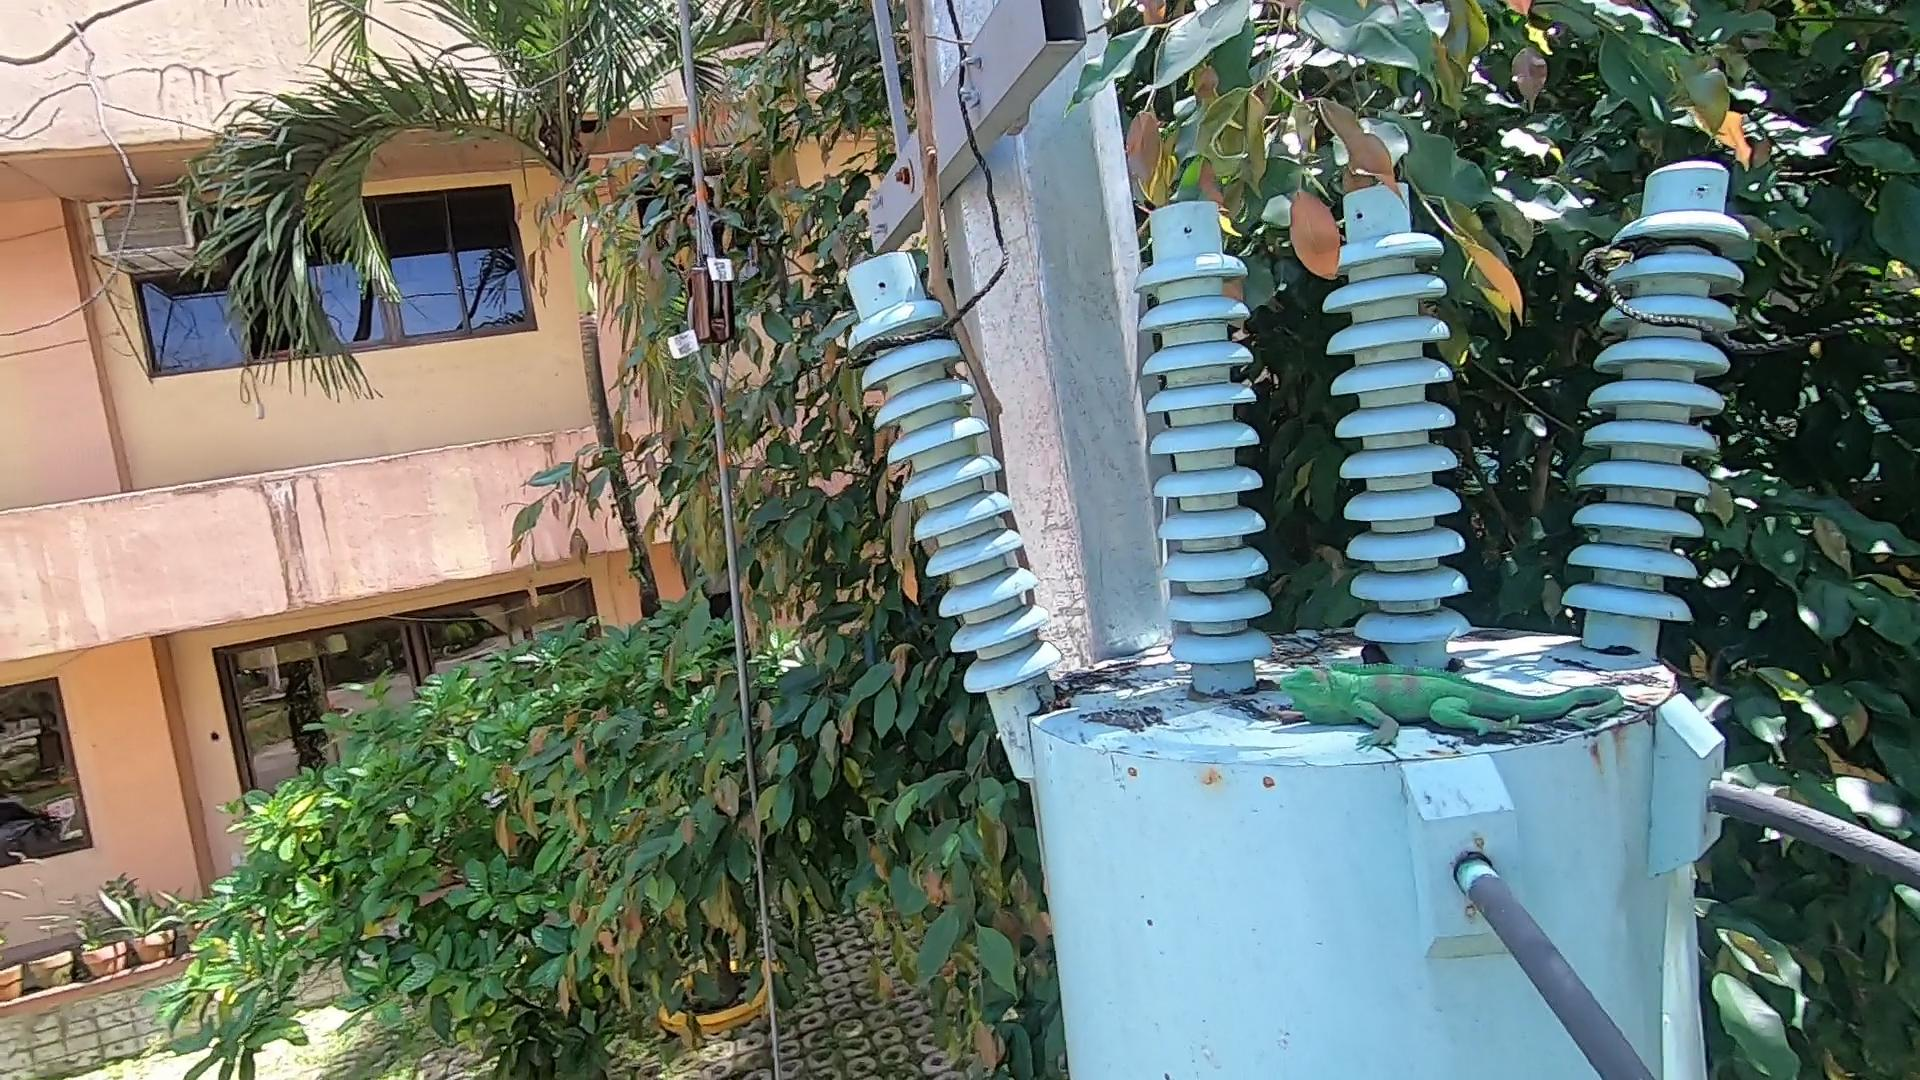branch with leaves: (1258, 135, 1563, 343)
leaf: (1042, 684, 1085, 723), (1352, 646, 1395, 675)
tree branch: (881, 3, 1087, 647)
